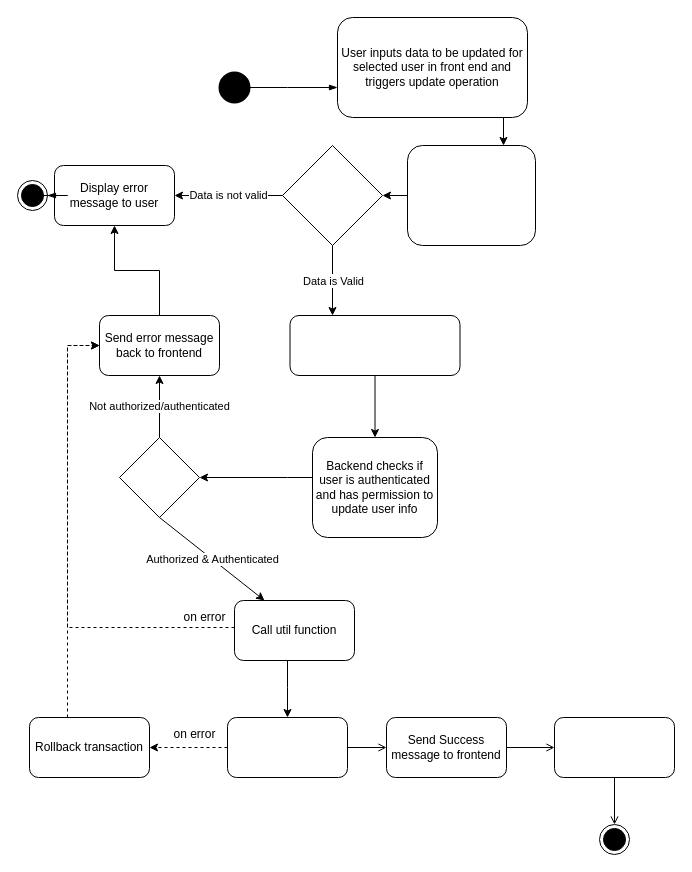
The diagram is 692 pixels wide and 872 high, and some of its shapes have lost their labels. The shapes that lost their labels are listed below. From the top down, each one's centre as x and y in pixels, then its label:
At point (471, 195): "Data is validated in frontend".
At point (374, 345): "Request is sent to Asynchronous backend API with data".
At point (287, 747): "Update User info in database".
At point (614, 747): "Display Success Message and update frontend View".
